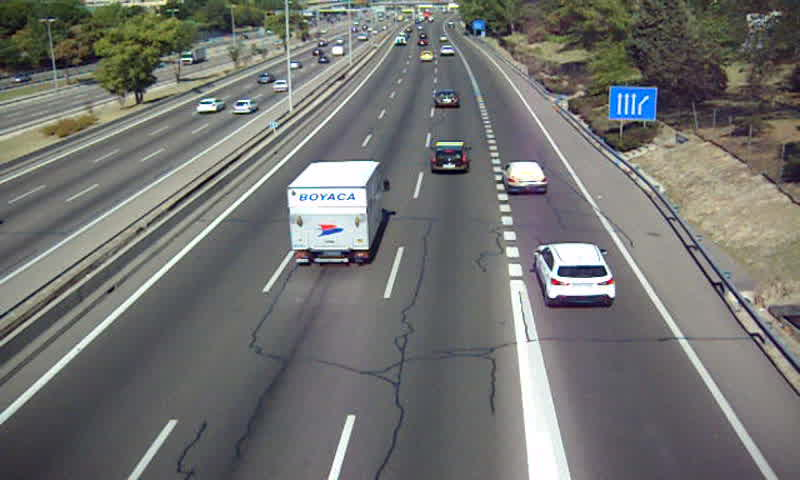car: (532, 243, 617, 308), (430, 138, 472, 173), (504, 161, 547, 192), (432, 90, 459, 110), (439, 44, 456, 56), (418, 49, 434, 60)
small-truck: (285, 161, 385, 267)
